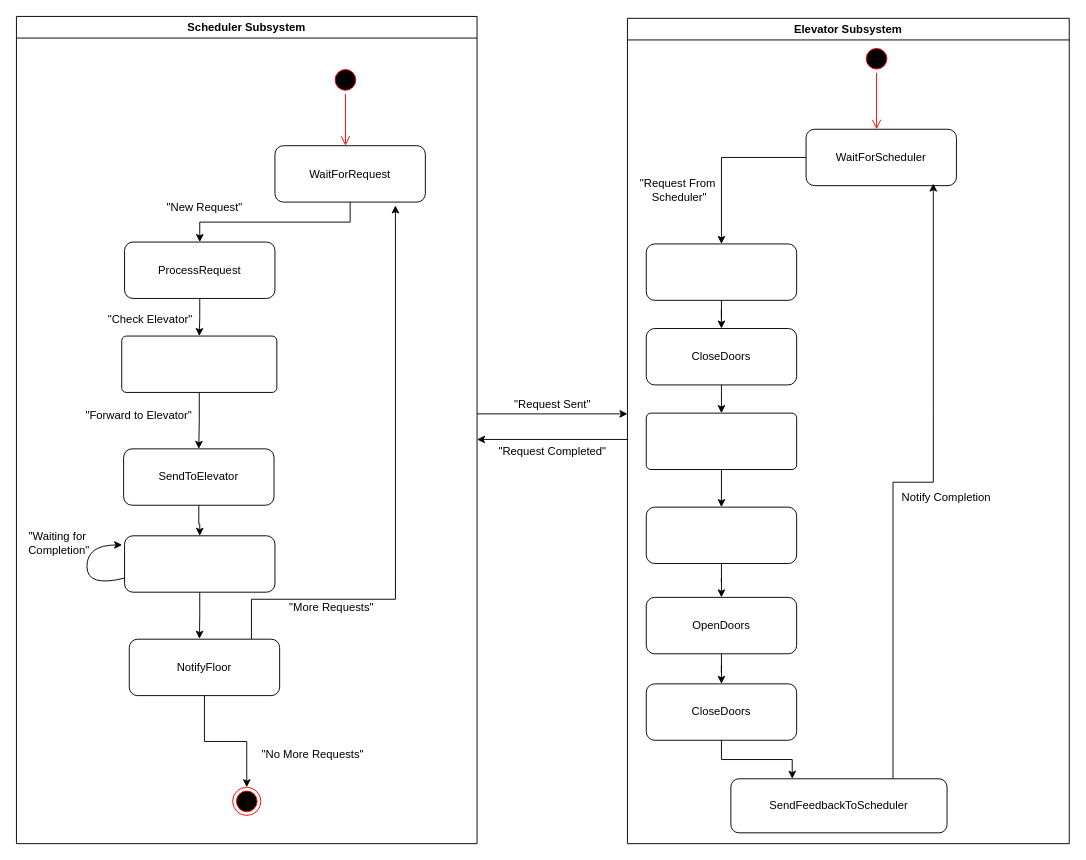
This 1086x860 diagram has some shape labels left out. Each missing label, with the box of its shape:
CheckFloorQueue: (645, 412, 797, 470)
ComparePosition: (121, 335, 277, 392)
MovingToFloor: (645, 506, 797, 564)
ReceiveInstructions: (645, 243, 797, 300)
WaitForElevator: (124, 535, 275, 592)
